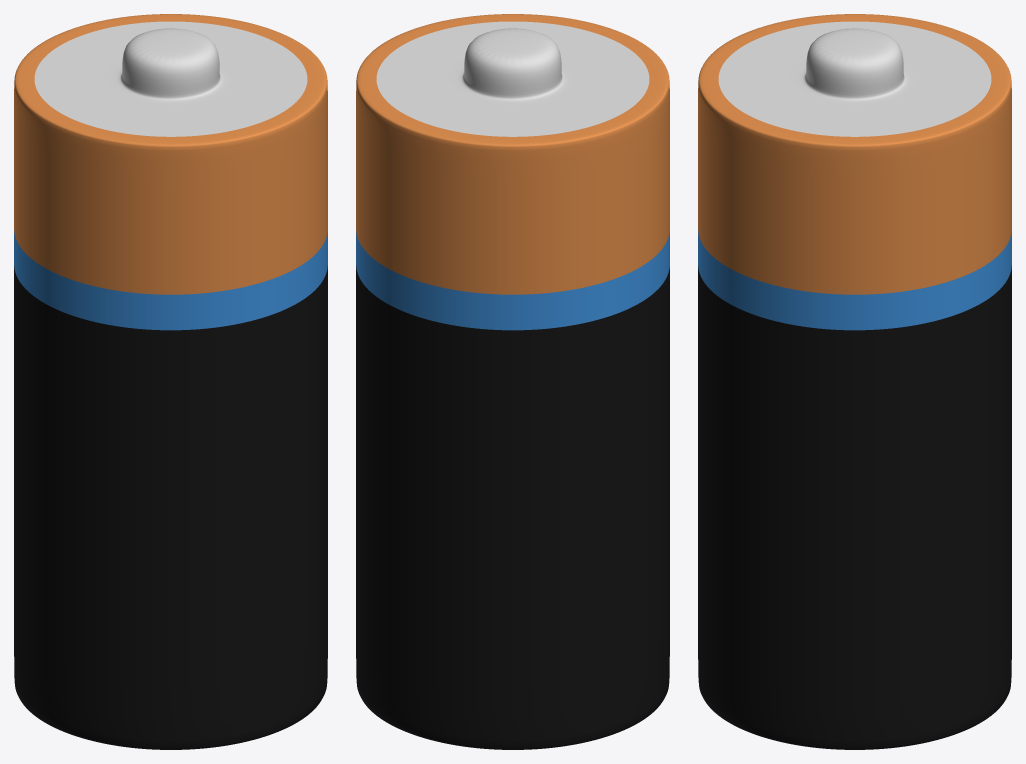
Rendered from batteries.fbx.
The picture shows the model from 3 angles, left to right: view 1: azimuth 30°, elevation 25°; view 2: azimuth 150°, elevation 25°; view 3: azimuth 270°, elevation 25°; orthographic projection.
Parts seen in each view (by area): view 1: battery.duracell; view 2: battery.duracell; view 3: battery.duracell.
Boxes of the visible parts, x1,y1,x2,y2 form: battery.duracell: (14,14,327,749); battery.duracell: (356,14,669,749); battery.duracell: (698,14,1011,749).
Bounding box in the file's own units: 53.63 × 121 × 53.63.
